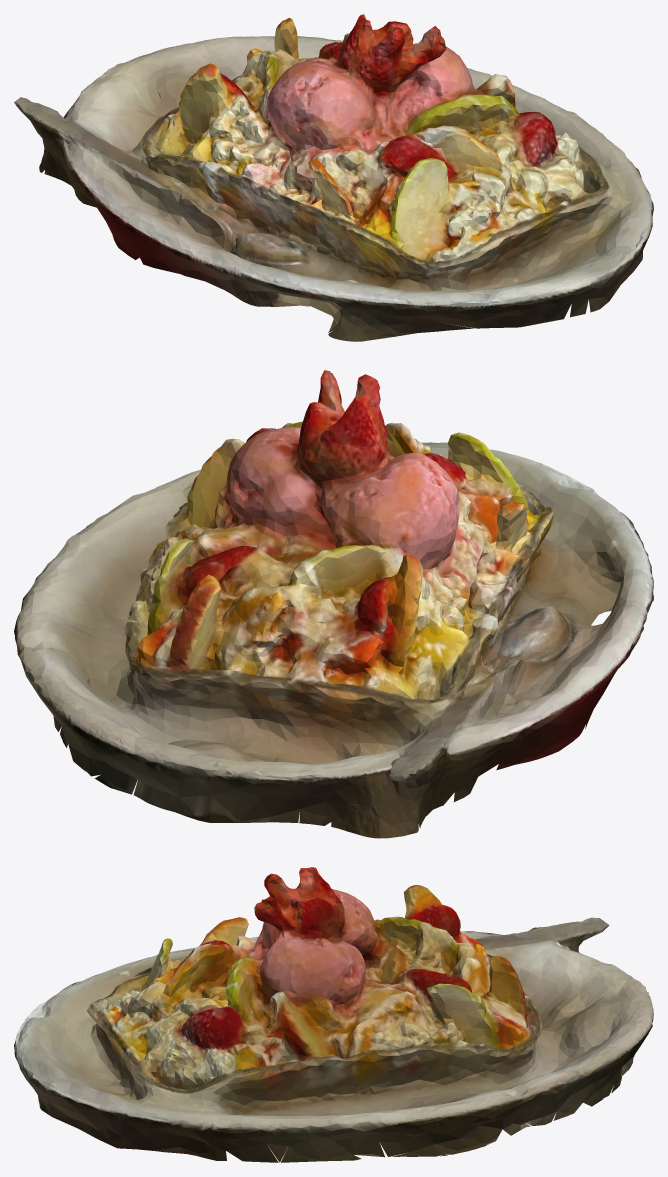
The model's file is ensalada.glb.
3 views of the same model, one above another, from view 1: azimuth 30°, elevation 25°; view 2: azimuth 150°, elevation 25°; view 3: azimuth 270°, elevation 25° (orthographic). The views are drawn at different scales.
Parts seen in each view (by area): view 1: Mesh_0; view 2: Mesh_0; view 3: Mesh_0.
Boxes of the visible parts, x1,y1,x2,y2 form: Mesh_0: (14, 14, 653, 341); Mesh_0: (14, 370, 653, 838); Mesh_0: (14, 867, 653, 1162).
Size of the model in its own units: 2.67 by 1.22 by 3.52.
Materials: 1 (1 with a texture image).
